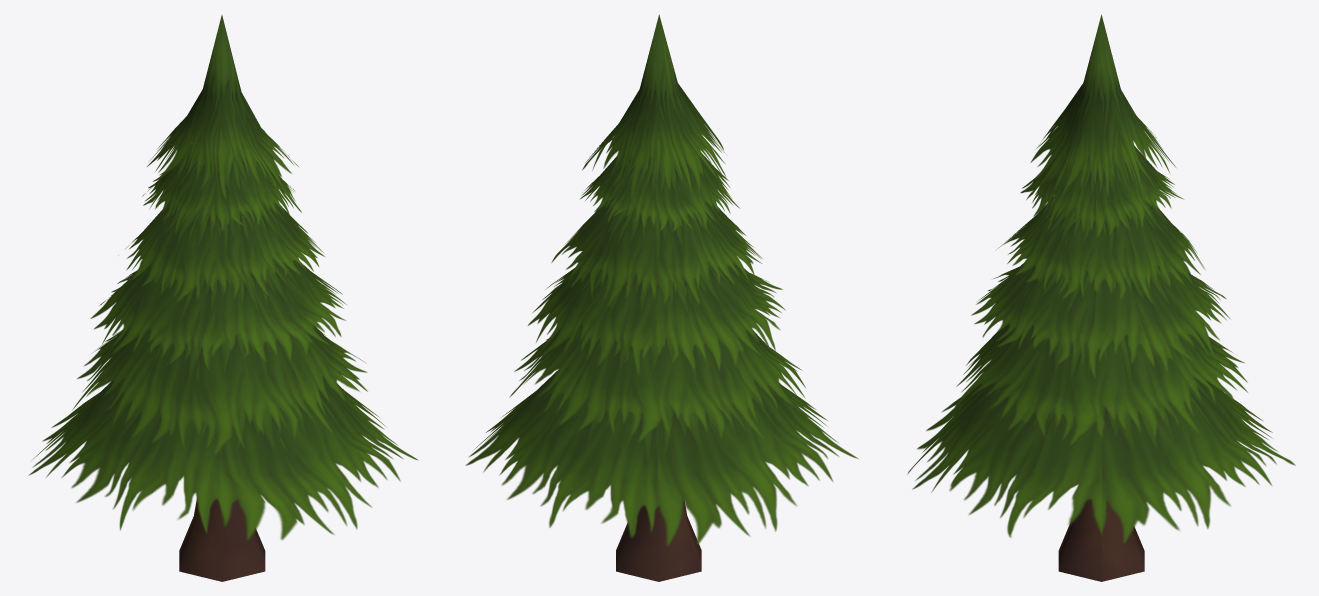
Rendered from fir_tree.glb.
The picture shows the model from 3 angles, left to right: view 1: azimuth 30°, elevation 25°; view 2: azimuth 150°, elevation 25°; view 3: azimuth 270°, elevation 25°; orthographic projection.
Parts seen in each view (by area): view 1: Fir_v1_1; view 2: Fir_v1_1; view 3: Fir_v1_1.
Part boxes in pixels (box(x1,y1,x2,y2)): Fir_v1_1: box(28, 15, 418, 581); Fir_v1_1: box(465, 14, 858, 581); Fir_v1_1: box(907, 14, 1295, 581).
Bounding box in the file's own units: 3.55 × 5.21 × 3.55.
Materials: 1 (1 with a texture image).
